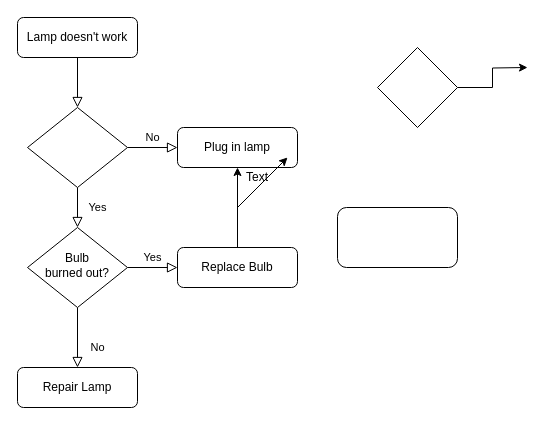
This 553x425 diagram has some shape labels left out. The shapes that lost their labels are listed below. From the top down, each one's centre as x and y in pixels, then its label:
At [417,87]: "if value == 0".
At [77,147]: "Lamp plugged in?".
